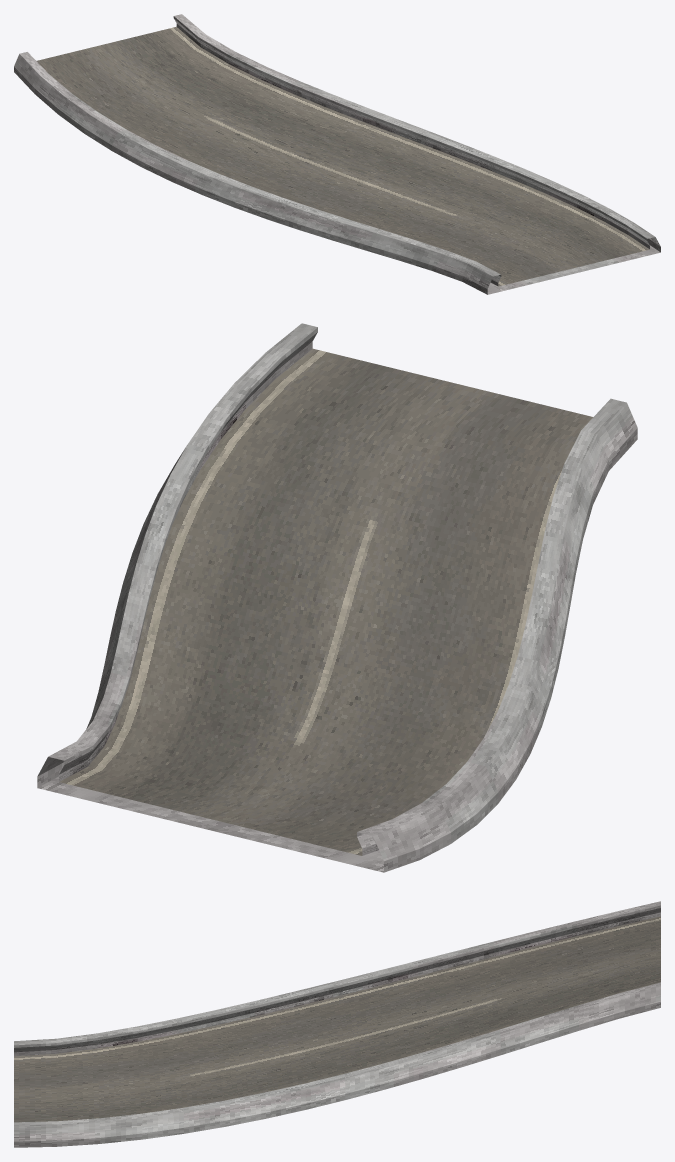
Rendered from road-Chicane-Flat-BiSlopeUp-Up1-Left1-Size3.glb.
The picture shows the model from 3 angles, top to bottom: view 1: azimuth 30°, elevation 25°; view 2: azimuth 150°, elevation 25°; view 3: azimuth 270°, elevation 25°; orthographic projection. The views are drawn at different scales.
Visible parts, largest first — view 1: road-Chicane-Flat-BiSlopeUp-Up1-Left1-Size3; view 2: road-Chicane-Flat-BiSlopeUp-Up1-Left1-Size3; view 3: road-Chicane-Flat-BiSlopeUp-Up1-Left1-Size3.
Part boxes in pixels (box(x1,y1,x2,y2)): road-Chicane-Flat-BiSlopeUp-Up1-Left1-Size3: box(14, 14, 660, 294); road-Chicane-Flat-BiSlopeUp-Up1-Left1-Size3: box(37, 323, 637, 872); road-Chicane-Flat-BiSlopeUp-Up1-Left1-Size3: box(14, 901, 660, 1147).
Size of the model in its own units: 2 by 0.3476 by 3.
2 materials, 2 textured.
